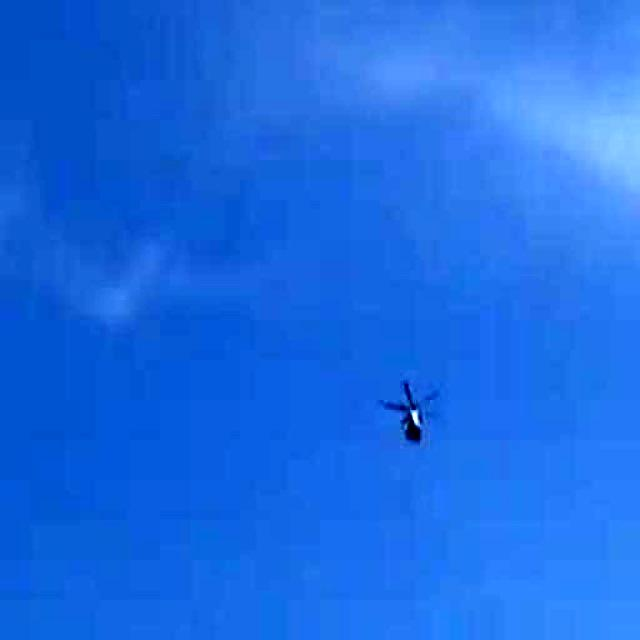drone: (370, 372, 458, 462)
